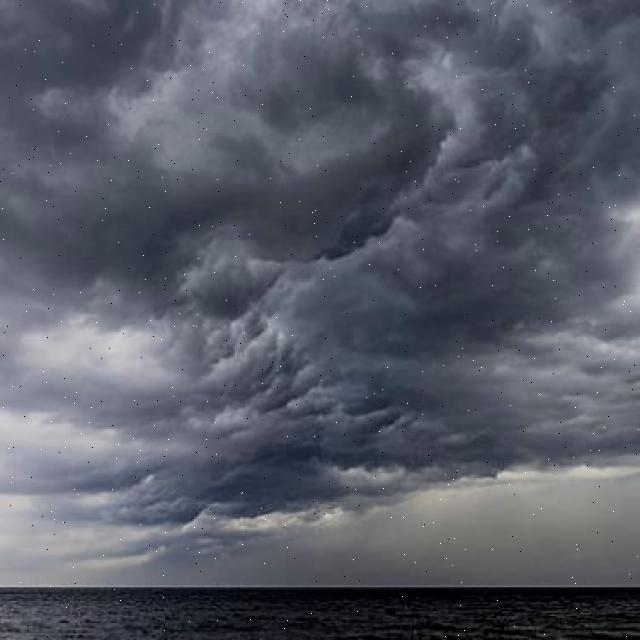Ns: (1, 59, 640, 473)
